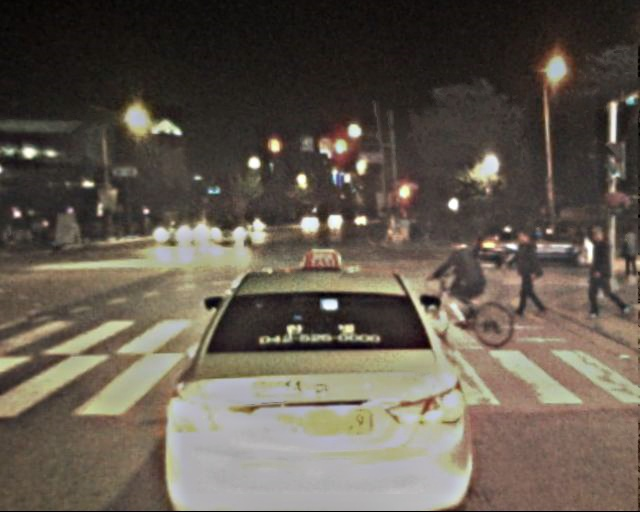person: (508, 225, 548, 323), (448, 237, 487, 332), (581, 229, 617, 317), (617, 223, 640, 281)
